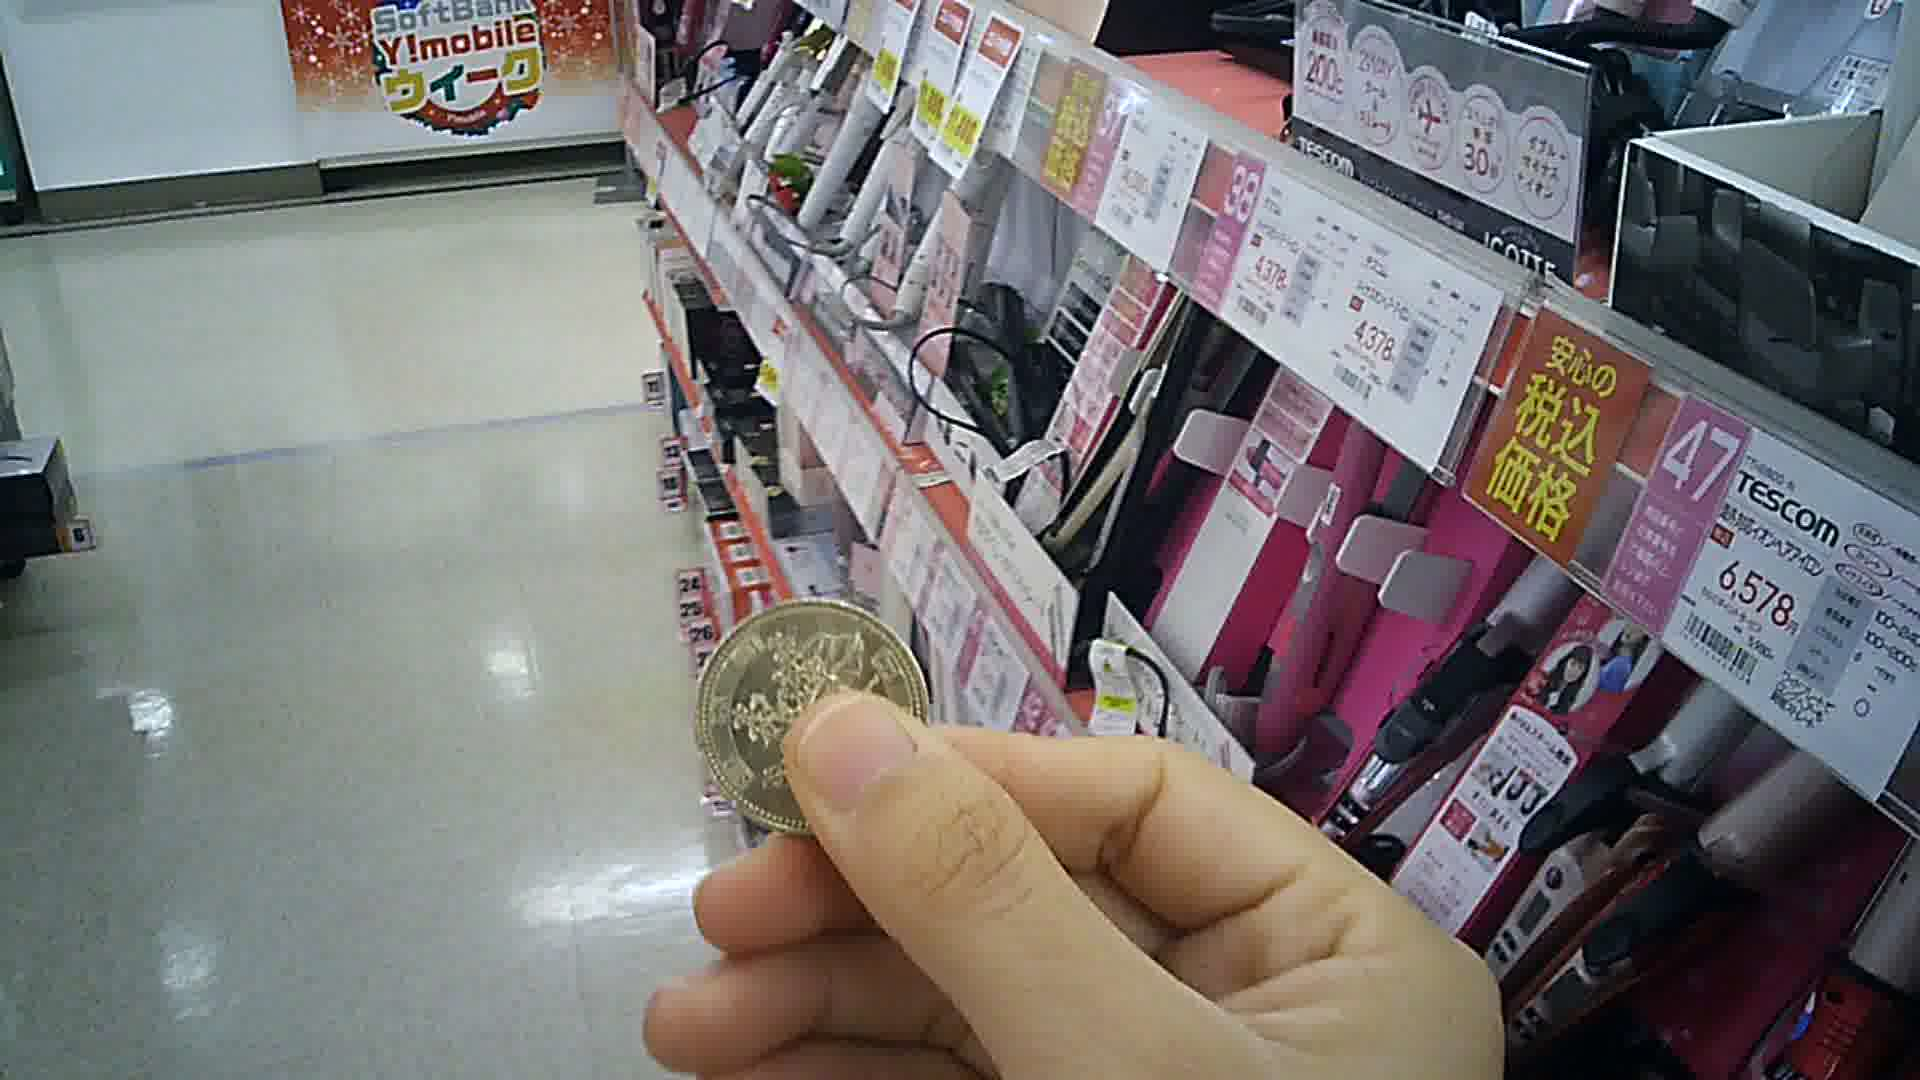500 Yen: (696, 589, 936, 828)
